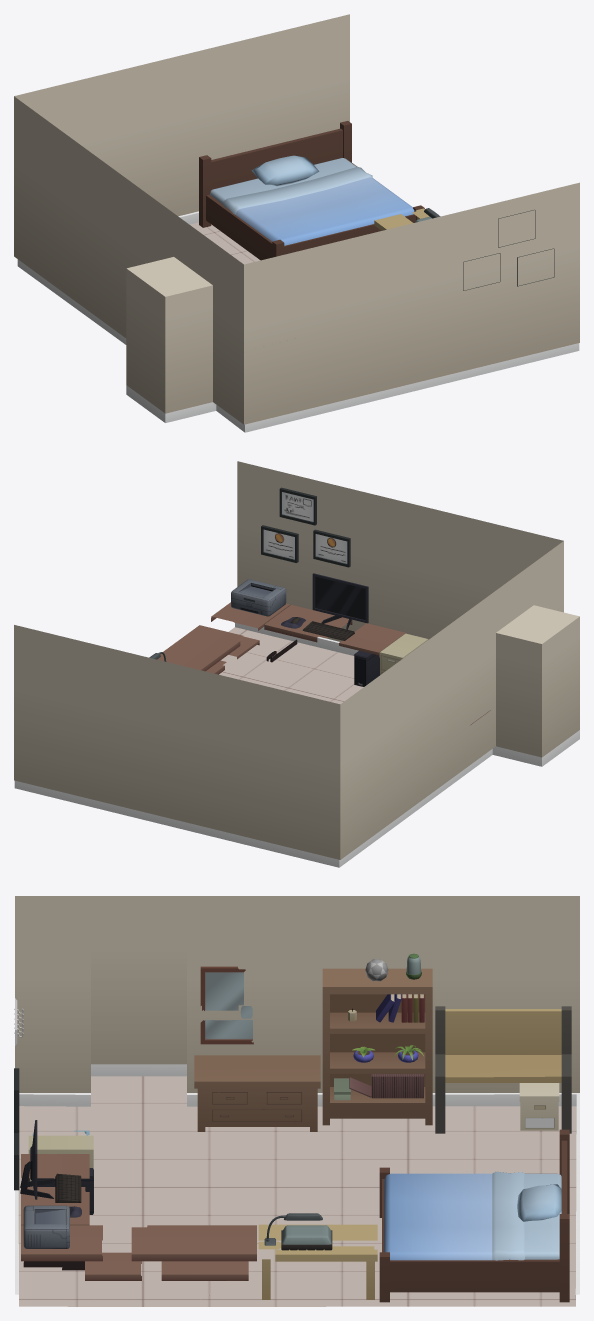
The model's file is Koi room.fbx.
3 renders of one model, top to bottom at view 1: azimuth 30°, elevation 25°; view 2: azimuth 150°, elevation 25°; view 3: azimuth 270°, elevation 25°, orthographic. The views are drawn at different scales.
Parts seen in each view (by area): view 1: Room, Bed with sheet; view 2: Room, Desk, Certificate, Tv Screen Stand, Printer, File Cabinet, PcCase, Mousenkeyboard; view 3: Room, Bed with sheet, Shelf, Desk, WorkBench, Dressing Cabinet, Shelf Props, Table, Mirror, Printer, Office Box, Plantbox (+4 smaller).
Part boxes in pixels (x1,y1,x2,y2): Room: (14,14,579,432); Bed with sheet: (199,121,424,260); Room: (14,461,579,867); Desk: (157,602,405,674); Certificate: (261,487,350,567); Tv Screen Stand: (312,573,368,629); Printer: (231,579,286,616); File Cabinet: (380,633,428,674); PcCase: (354,650,379,686); Mousenkeyboard: (281,617,354,640); Room: (15,896,579,1306); Bed with sheet: (379,1129,569,1302); Shelf: (322,968,432,1125); Desk: (21,1154,256,1280); WorkBench: (435,1006,571,1133); Dressing Cabinet: (194,1055,320,1131); Shelf Props: (334,953,424,1100); Table: (258,1224,377,1299); Mirror: (200,966,253,1044); Printer: (23,1205,69,1248); Office Box: (519,1083,559,1130); Plantbox: (281,1225,332,1250).
Size of the model in its own units: 8.64 by 3.65 by 8.96.
